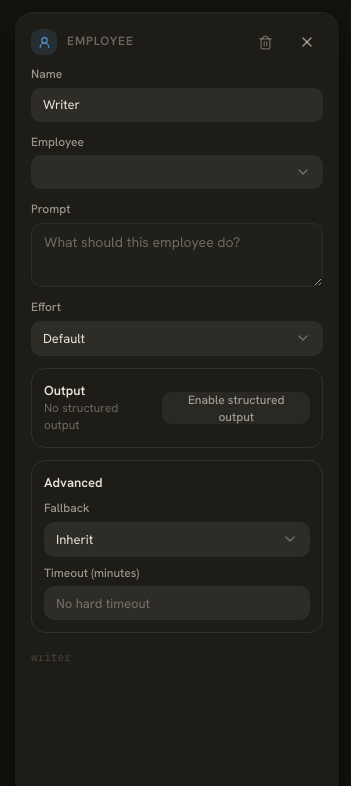
employee inspector output schema › disables structured output by removing the output config
Click the button "Enable structured output". click: [236, 408]
box: [162,392,310,424]
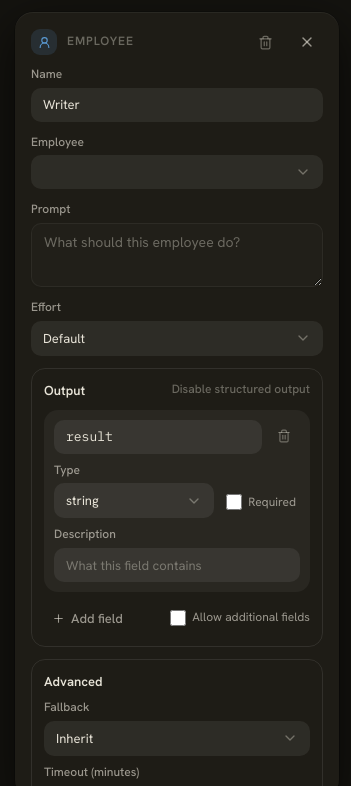
Click the button "Disable structured output". click: [241, 390]
box: [172,381,310,399]
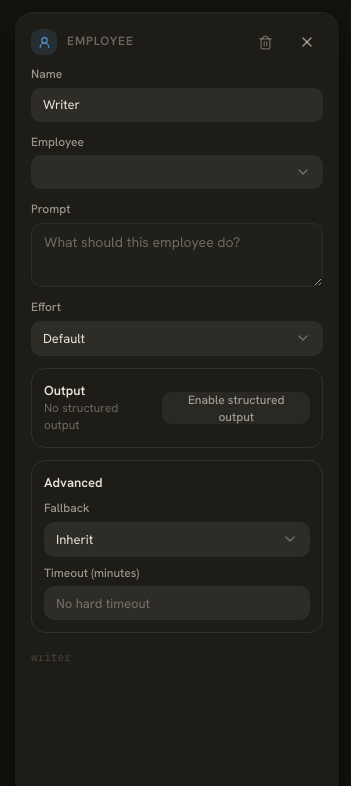
Expected: the button "Enable structured output" is shown, [162,392,310,424]
